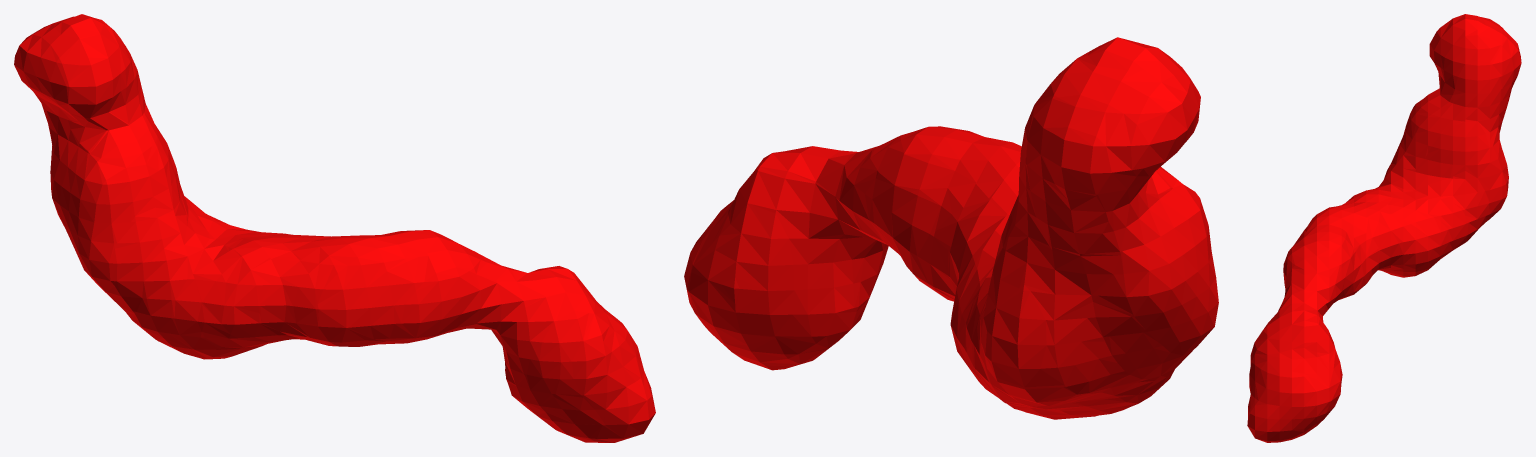
Rendered from rpmE_coarse.dae.
3 views of the same model, side by side, from view 1: azimuth 30°, elevation 25°; view 2: azimuth 150°, elevation 25°; view 3: azimuth 270°, elevation 25° (orthographic). The views are drawn at different scales.
Visible parts, largest first — view 1: rpmE; view 2: rpmE; view 3: rpmE.
Part boxes in pixels (bbox=[...]): rpmE: bbox=[14, 14, 655, 442]; rpmE: bbox=[684, 37, 1218, 419]; rpmE: bbox=[1247, 14, 1521, 442].
Bounding box in the file's own units: 63.92 × 53.23 × 45.31.
